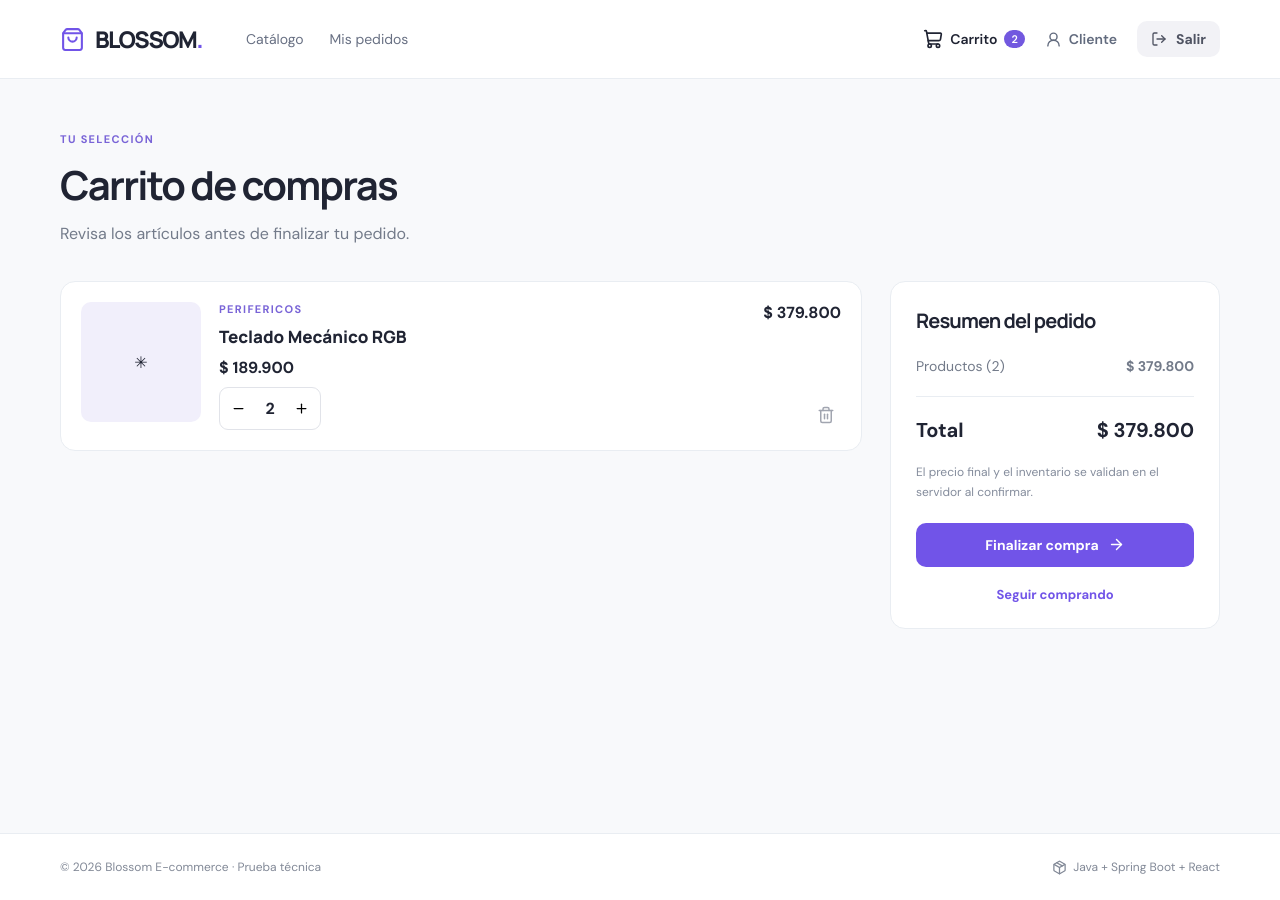
Test: Detalle, carrito y checkout › muestra error de compra y conserva el carrito para reintentar
Step 1. Click the button "Finalizar compra" → [1055, 545], box 916,523 -> 1194,567
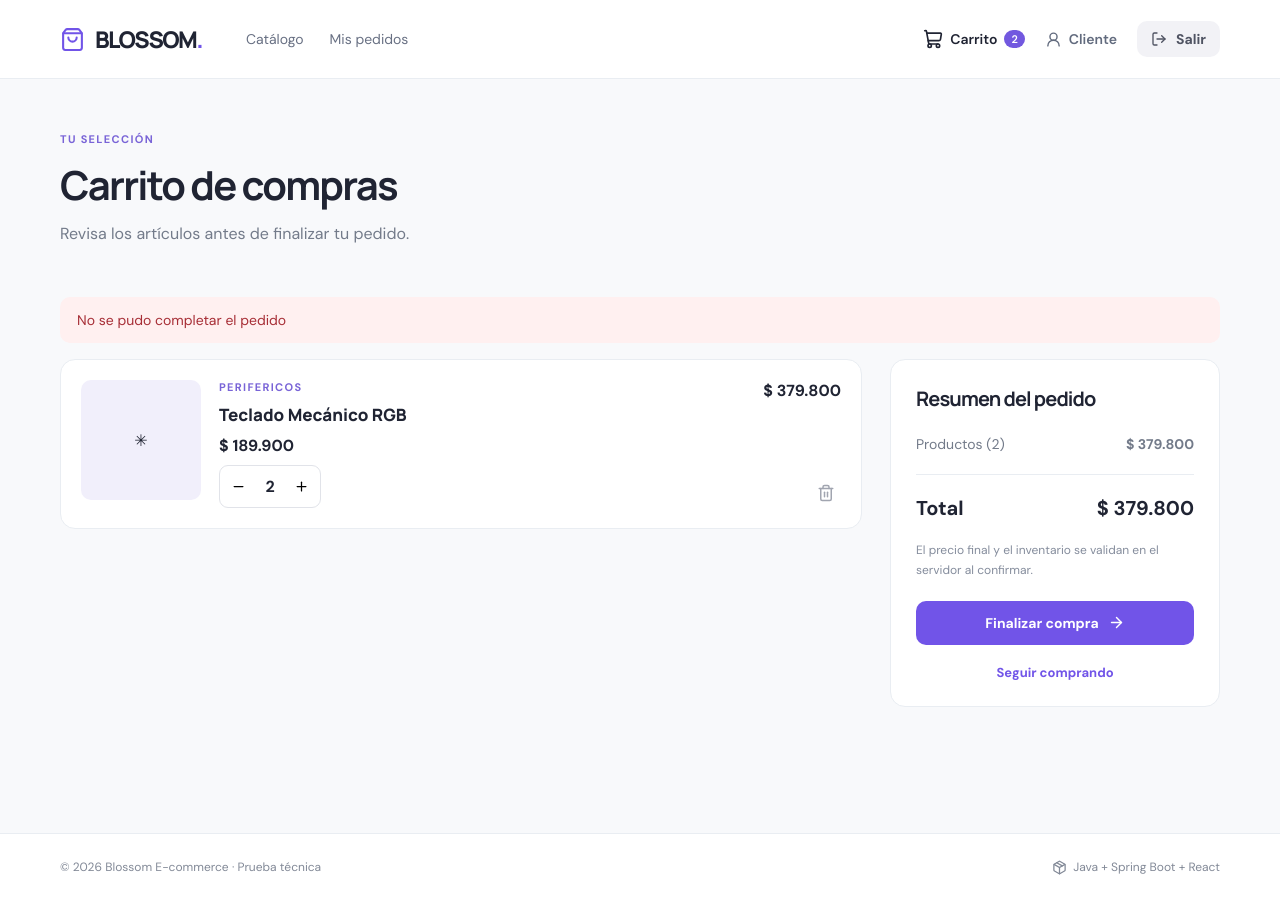
Result: the message reads "No se pudo completar el pedido" at 77,311 -> 286,329
